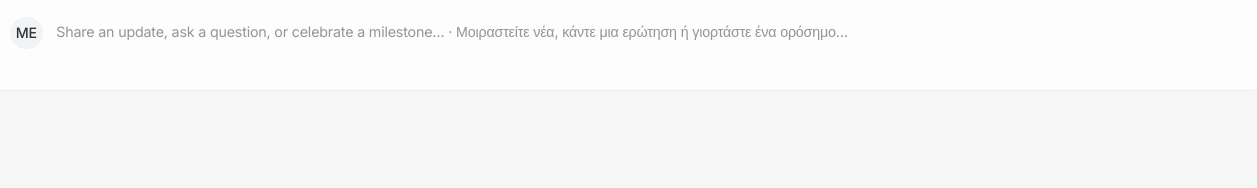
Scenario: FeedPostComposer › wraps the toolbar and keeps a visible focus ring
Focus the text box named "Write a post" at (641, 42), box [48,17,1234,67]
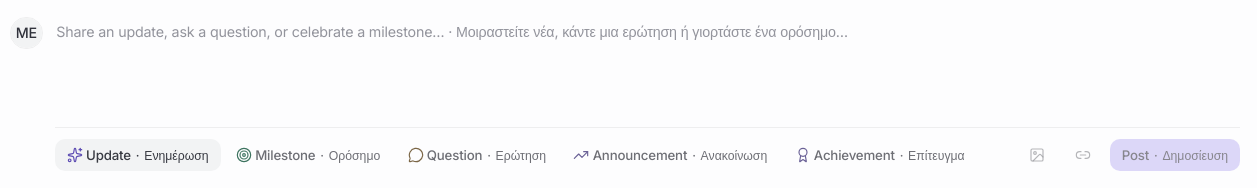
Check: the button named "Attach an image" is disabled, box [1017,140,1057,171]
